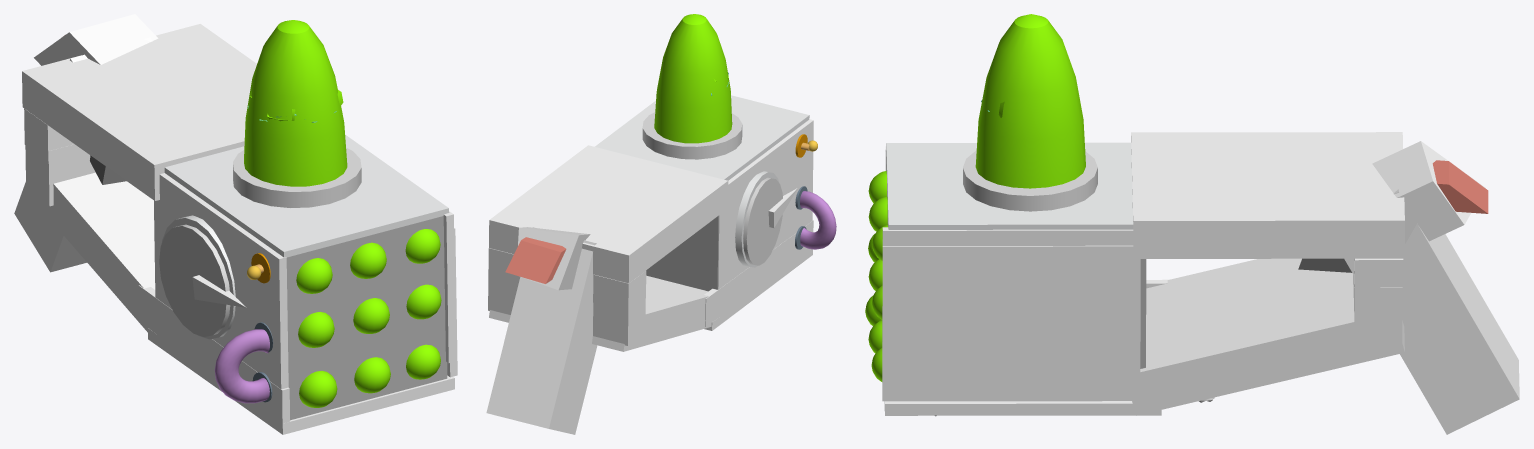
The model's file is rick_primes_portal_gun.glb.
3 renders of one model, left to right at view 1: azimuth 30°, elevation 25°; view 2: azimuth 150°, elevation 25°; view 3: azimuth 270°, elevation 25°, orthographic. The views are drawn at different scales.
Visible parts, largest first — view 1: Cub_42, Cub_46, object 75, Cub_52, Cub_43, Cub_41, Cilindru_68, Cub_45, Cub_62, Cilindru_38, Cub_115, Tor_75 (+17 smaller); view 2: Cub_42, Cub_63, object 75, Cub_52, Cub_41, Cub_66, Cub_43, Cub_46, Cub_65, Cub_45, Cilindru_68, Cub_64 (+7 smaller); view 3: Cub_48, Cub_42, Cub_43, object 75, Cub_66, Cub_52, Cub_115, Cub_47, Cub_62, Cilindru_38, Cub_65, Cub_49 (+4 smaller).
Boxes of the visible parts, left/top/right/bottom form: Cub_42: left=22, top=24, right=256, bottom=200; Cub_46: left=286, top=216, right=447, bottom=420; object 75: left=244, top=20, right=347, bottom=186; Cub_52: left=164, top=134, right=449, bottom=257; Cub_43: left=29, top=172, right=155, bottom=332; Cub_41: left=154, top=173, right=288, bottom=389; Cilindru_68: left=159, top=224, right=230, bottom=336; Cub_45: left=138, top=285, right=289, bottom=425; Cub_62: left=147, top=328, right=454, bottom=434; Cilindru_38: left=233, top=147, right=361, bottom=207; Cub_115: left=34, top=14, right=158, bottom=65; Tor_75: left=214, top=329, right=269, bottom=403; Cub_42: left=489, top=145, right=728, bottom=283; Cub_63: left=518, top=240, right=597, bottom=434; object 75: left=654, top=14, right=732, bottom=143; Cub_52: left=595, top=95, right=809, bottom=180; Cub_41: left=717, top=119, right=813, bottom=289; Cub_66: left=486, top=227, right=549, bottom=420; Cub_43: left=489, top=275, right=711, bottom=351; Cub_46: left=646, top=216, right=718, bottom=291; Cub_65: left=488, top=269, right=645, bottom=345; Cub_45: left=704, top=220, right=813, bottom=326; Cilindru_68: left=743, top=177, right=782, bottom=265; Cub_64: left=488, top=248, right=646, bottom=311; Cub_48: left=882, top=245, right=1140, bottom=401; Cub_42: left=1131, top=132, right=1404, bottom=258; Cub_43: left=1132, top=258, right=1404, bottom=415; object 75: left=975, top=14, right=1085, bottom=188; Cub_66: left=1344, top=189, right=1519, bottom=434; Cub_52: left=886, top=142, right=1133, bottom=229; Cub_115: left=1372, top=141, right=1485, bottom=243; Cub_47: left=882, top=227, right=1133, bottom=336; Cub_62: left=884, top=401, right=1161, bottom=415; Cilindru_38: left=963, top=150, right=1097, bottom=211; Cub_65: left=1353, top=261, right=1402, bottom=345; Cub_49: left=1432, top=160, right=1488, bottom=213.
Bounding box in the file's own units: 1.17 × 1.95 × 2.86.
